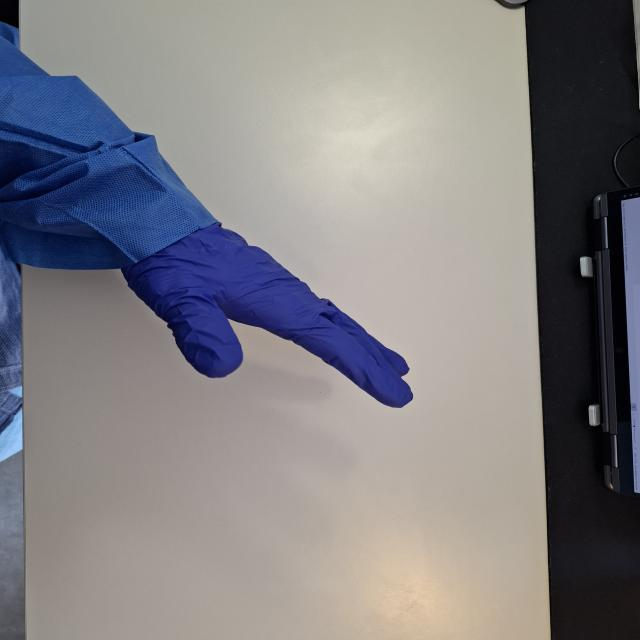glove_on: (120, 217, 418, 410)
